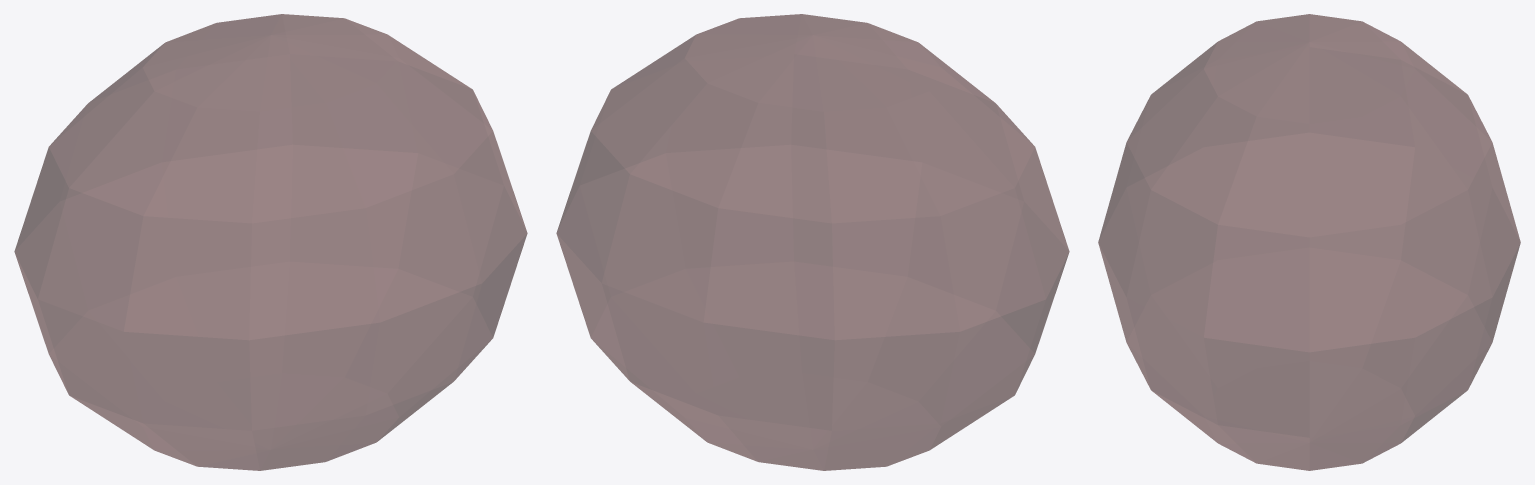
The model's file is EatenDarkLowLeft.fbx.
The picture shows the model from 3 angles, left to right: view 1: azimuth 30°, elevation 25°; view 2: azimuth 150°, elevation 25°; view 3: azimuth 270°, elevation 25°; orthographic projection. The views are drawn at different scales.
Parts seen in each view (by area): view 1: pSphere2; view 2: pSphere2; view 3: pSphere2.
Part boxes in pixels (x1,y1,x2,y2): pSphere2: (14, 14, 527, 470); pSphere2: (556, 14, 1069, 470); pSphere2: (1098, 14, 1520, 470).
Size of the model in its own units: 8.22 by 6.98 by 6.68.
